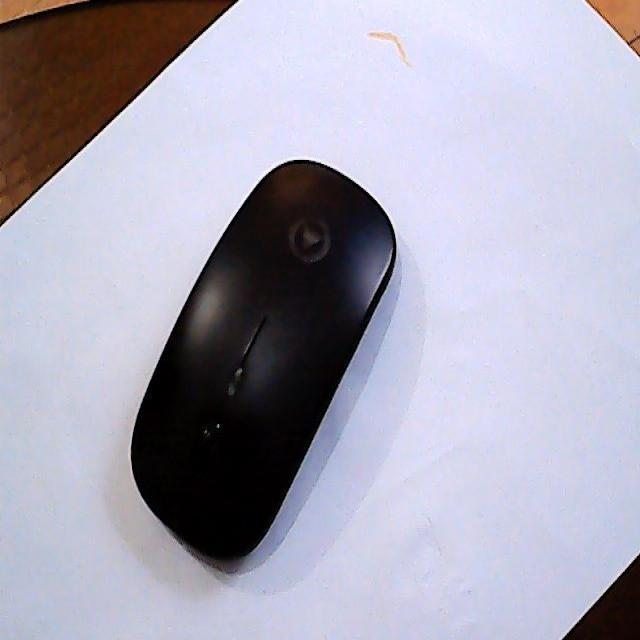Mouse: (129, 154, 397, 562)
